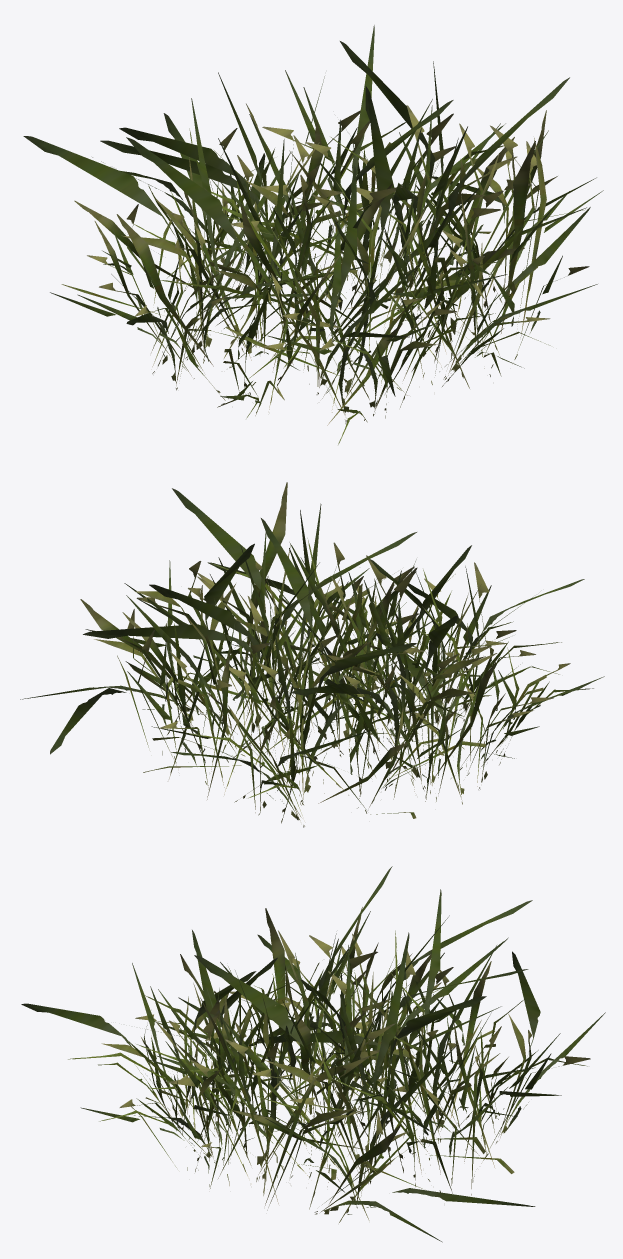
3 renders of one model, top to bottom at view 1: azimuth 30°, elevation 25°; view 2: azimuth 150°, elevation 25°; view 3: azimuth 270°, elevation 25°, orthographic. The views are drawn at different scales.
Parts seen in each view (by area): view 1: grass_medium_01__a_lod0; view 2: grass_medium_01__a_lod0; view 3: grass_medium_01__a_lod0.
Boxes of the visible parts, <box> form: grass_medium_01__a_lod0: <box>23,25,603,444</box>; grass_medium_01__a_lod0: <box>20,482,604,827</box>; grass_medium_01__a_lod0: <box>21,866,605,1242</box>.
Bounding box in the file's own units: 0.3216 × 0.1531 × 0.3323.
Materials: 1 (1 with a texture image).
